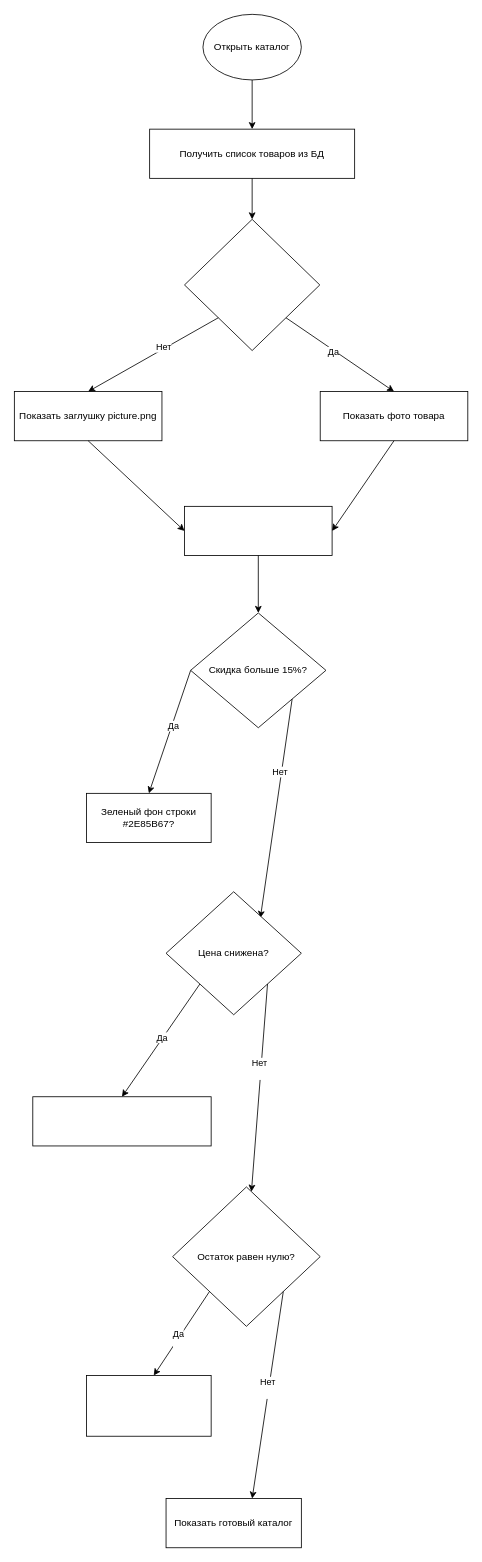
The diagram is 482 pixels wide and 1562 high, and some of its shapes have lost their labels. The shapes that lost their labels are listed below. From the top down, each one's centre as x and y in pixels, then its label:
(252,285): У товара есть фото?
(258,531): Вывести данные товара
(121,1121): Старая цена : красная и зачеркнутая Итоговая цена : Черная
(148,1405): Голубой фон строки
